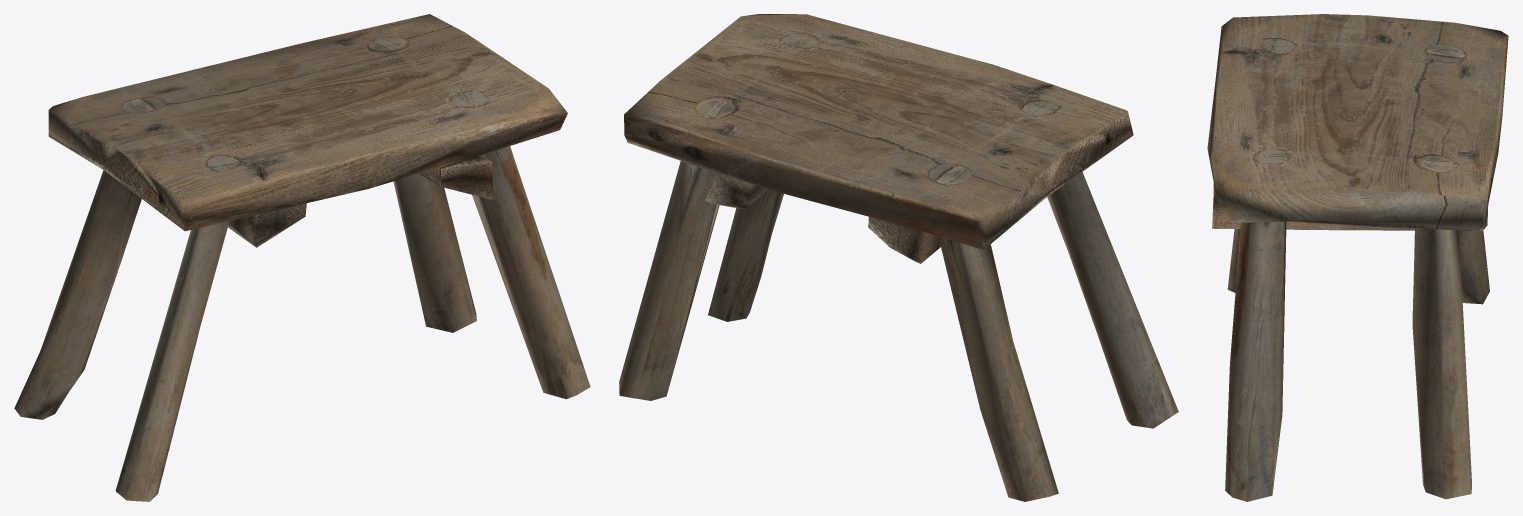
Rendered from Stool.fbx.
3 views of the same model, side by side, from view 1: azimuth 30°, elevation 25°; view 2: azimuth 150°, elevation 25°; view 3: azimuth 270°, elevation 25° (orthographic).
Parts seen in each view (by area): view 1: Stool; view 2: Stool; view 3: Stool.
Part boxes in pixels (x1,y1,x2,y2): Stool: [14, 14, 590, 501]; Stool: [619, 14, 1178, 501]; Stool: [1207, 14, 1508, 501].
Bounding box in the file's own units: 75.13 × 48.07 × 42.97.
Materials: 1 (1 with a texture image).
